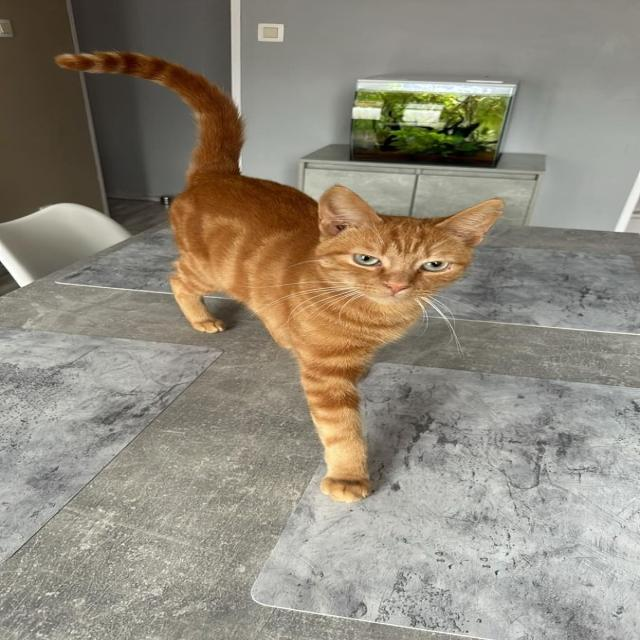sarman: (56, 52, 503, 502)
